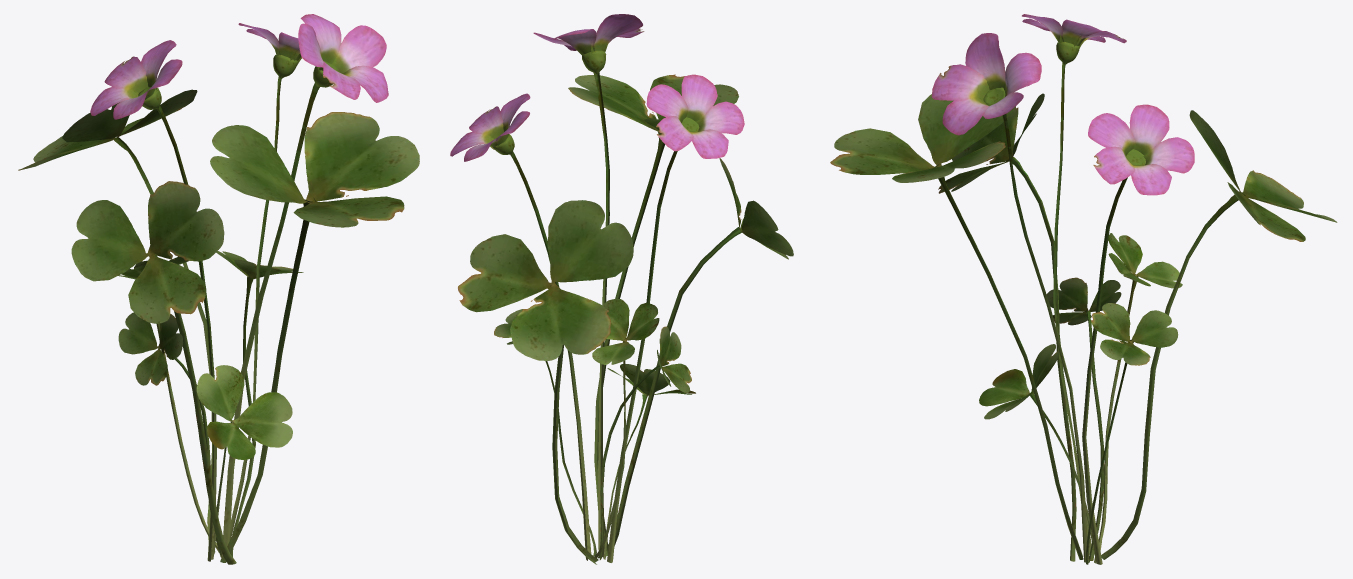
The model's file is oxalis.glb.
3 renders of one model, left to right at view 1: azimuth 30°, elevation 25°; view 2: azimuth 150°, elevation 25°; view 3: azimuth 270°, elevation 25°, orthographic. The views are drawn at different scales.
Visible parts, largest first — view 1: Flowers1; view 2: Flowers1; view 3: Flowers1.
Part boxes in pixels (x1,y1,x2,y2): Flowers1: (18, 14, 419, 564); Flowers1: (450, 14, 793, 564); Flowers1: (830, 14, 1337, 564).
Size of the model in its own units: 0.0973 by 0.1651 by 0.1425.
Materials: 1 (1 with a texture image).
